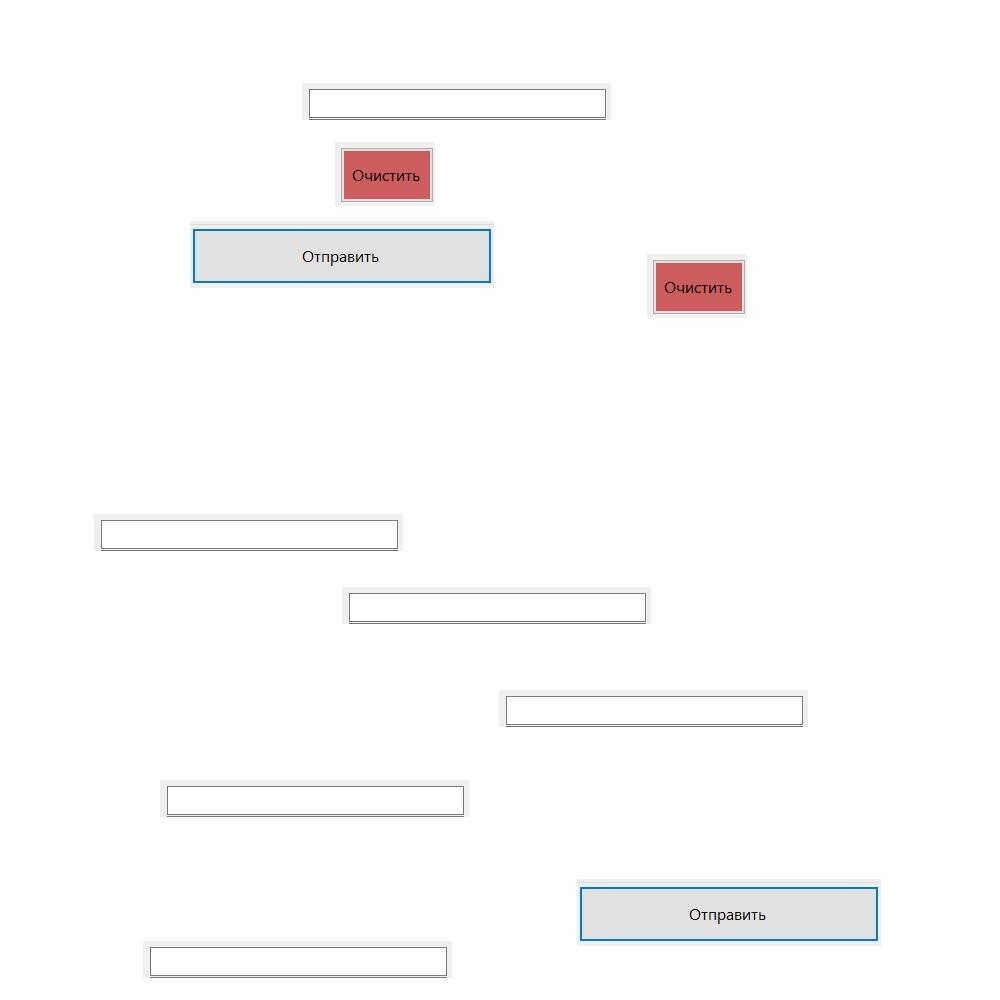Button: (190, 221, 494, 288), (577, 879, 881, 946), (335, 142, 435, 206), (647, 254, 747, 318)
EditText-: (94, 514, 403, 551), (160, 780, 469, 817), (143, 941, 452, 978), (499, 690, 808, 727), (342, 587, 651, 624), (302, 83, 611, 120)
